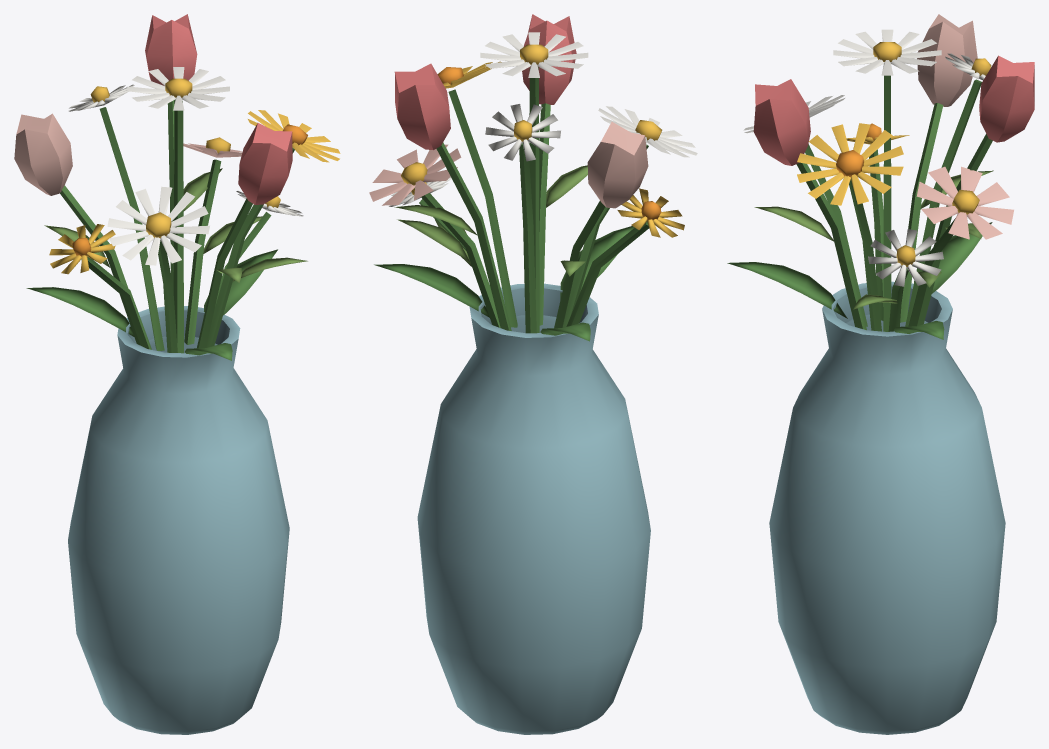
File: vaseFlowers.glb
3 views of the same model, side by side, from view 1: azimuth 30°, elevation 25°; view 2: azimuth 150°, elevation 25°; view 3: azimuth 270°, elevation 25° (orthographic). The views are drawn at different scales.
Visible parts, largest first — view 1: vaseFlowers; view 2: vaseFlowers; view 3: vaseFlowers.
Part boxes in pixels (box(x1,y1,x2,y2)): vaseFlowers: box(14, 14, 340, 734); vaseFlowers: box(369, 14, 697, 734); vaseFlowers: box(727, 14, 1034, 734).
Bounding box in the file's own units: 0.1809 × 0.4081 × 0.1698.
